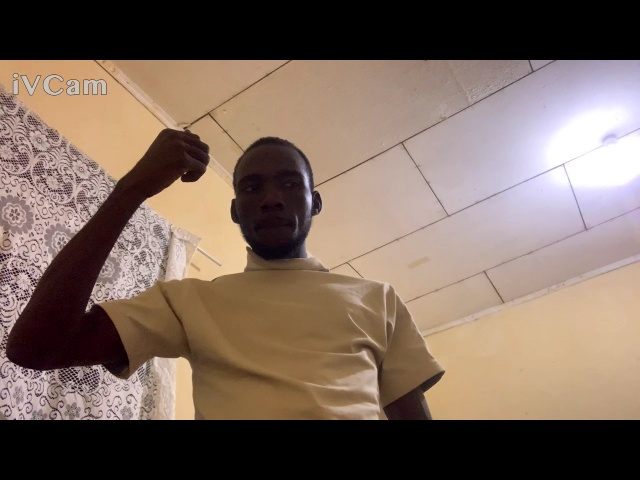je ne sais pas: (125, 116, 248, 210)
